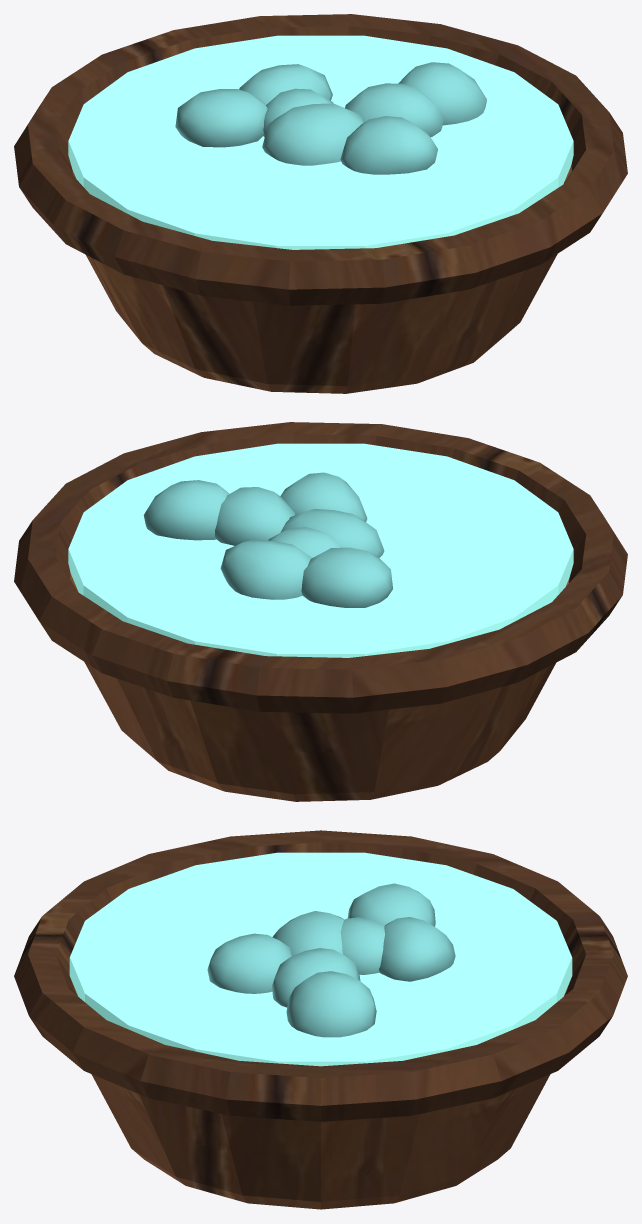
File: dish_glow_broth.glb
3 views of the same model, one above another, from view 1: azimuth 30°, elevation 25°; view 2: azimuth 150°, elevation 25°; view 3: azimuth 270°, elevation 25° (orthographic).
Visible parts, largest first — view 1: model; view 2: model; view 3: model.
Boxes of the visible parts, <box> form: model: <box>14,14,627,393</box>; model: <box>14,422,627,801</box>; model: <box>14,830,627,1209</box>.
Size of the model in its own units: 0.264 by 0.1024 by 0.264.
Materials: 4 (2 with a texture image).
